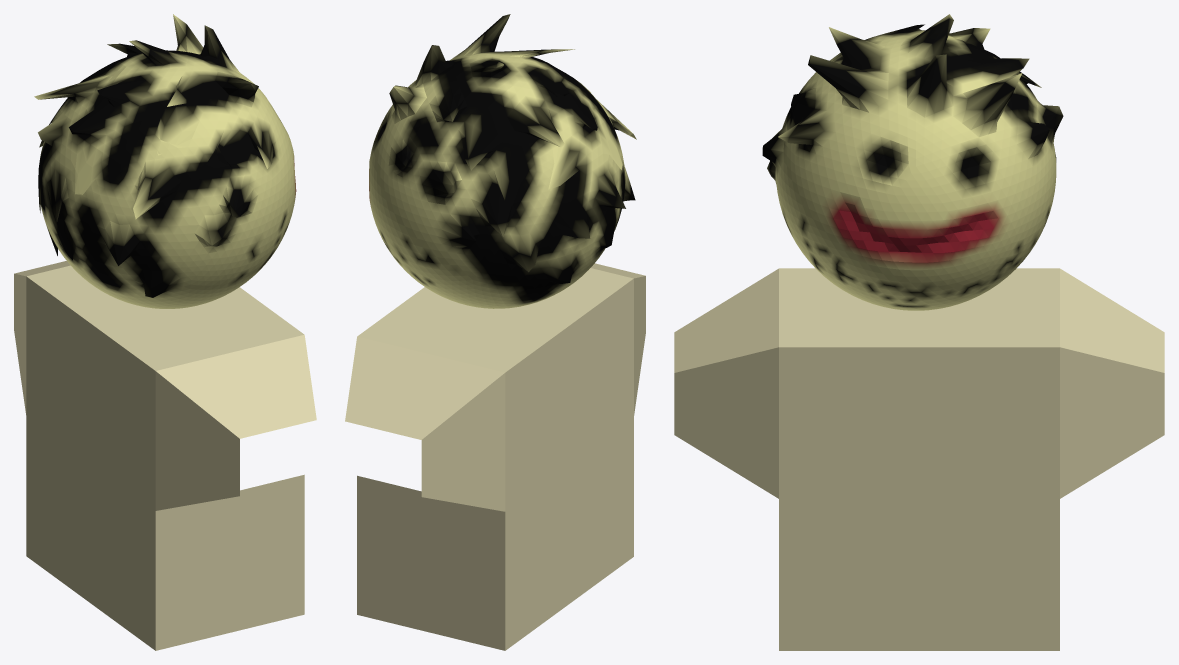
The model's file is player.glb.
3 renders of one model, left to right at view 1: azimuth 30°, elevation 25°; view 2: azimuth 150°, elevation 25°; view 3: azimuth 270°, elevation 25°, orthographic. The views are drawn at different scales.
Visible parts, largest first — view 1: Cube, Icosphere; view 2: Cube, Icosphere; view 3: Cube, Icosphere.
Part boxes in pixels (box(x1,y1,x2,y2)): Cube: box(14, 261, 316, 650); Icosphere: box(34, 14, 296, 308); Cube: box(345, 263, 645, 650); Icosphere: box(369, 14, 636, 308); Cube: box(674, 268, 1164, 650); Icosphere: box(762, 14, 1063, 310).
Bounding box in the file's own units: 2.08 × 4.6 × 3.49.
